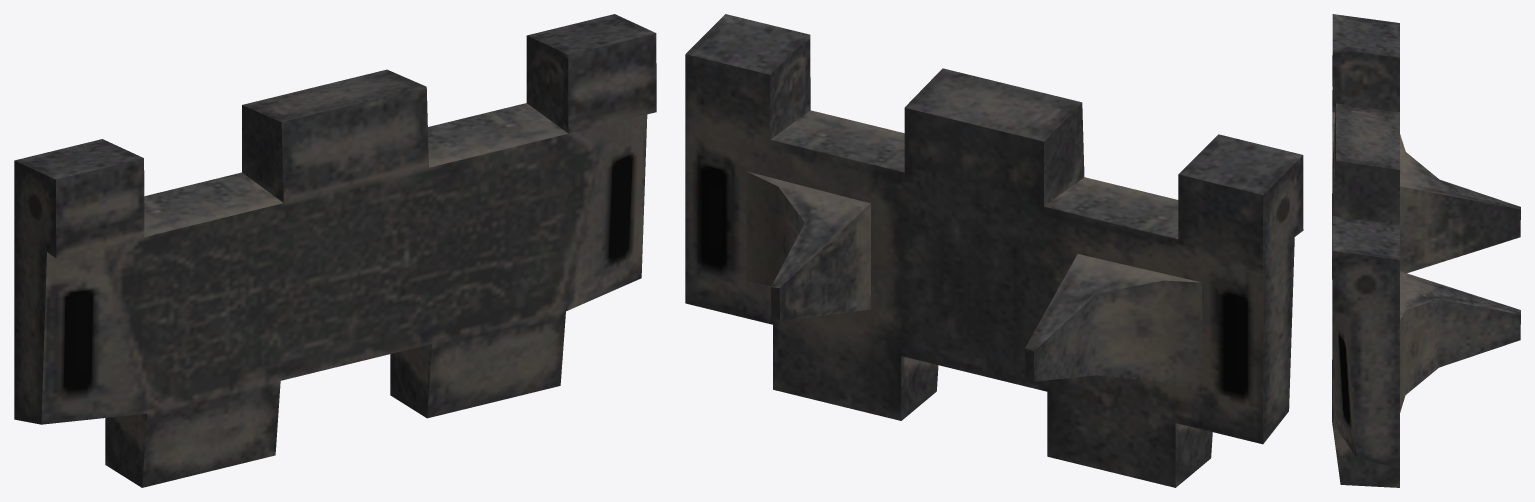
3 views of the same model, side by side, from view 1: azimuth 30°, elevation 25°; view 2: azimuth 150°, elevation 25°; view 3: azimuth 270°, elevation 25° (orthographic). The views are drawn at different scales.
Parts seen in each view (by area): view 1: set_0_group_0; view 2: set_0_group_0; view 3: set_0_group_0.
Boxes of the visible parts, x1,y1,x2,y2 form: set_0_group_0: (14, 14, 656, 487); set_0_group_0: (685, 14, 1303, 487); set_0_group_0: (1332, 14, 1520, 487).
Size of the model in its own units: 0.3178 by 0.1711 by 0.1071.
Materials: 1 (1 with a texture image).
